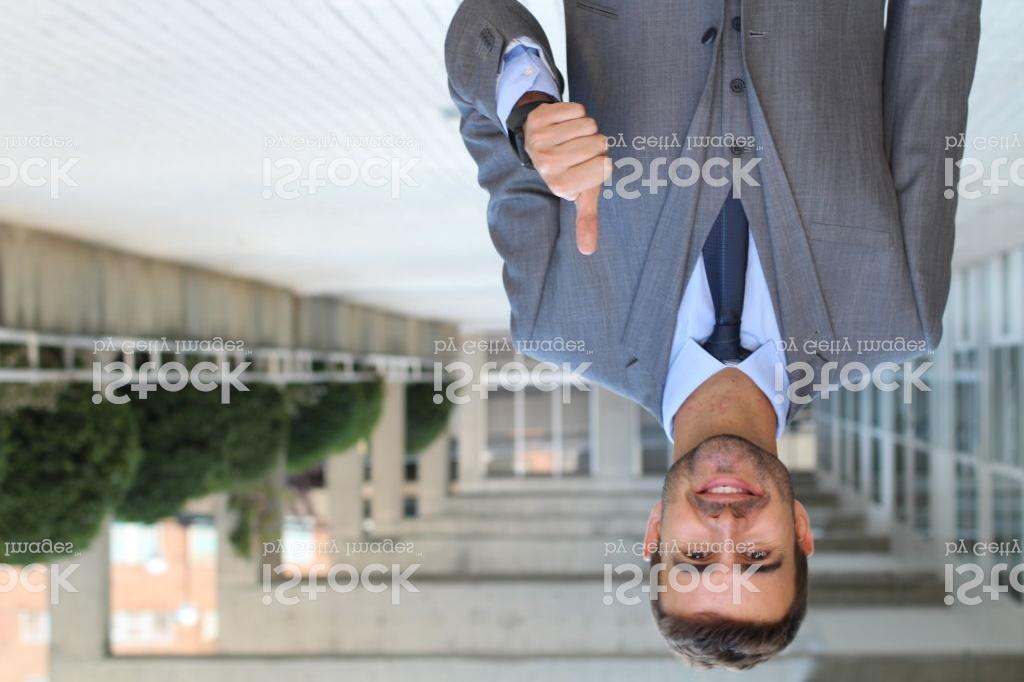thumbsdown: (522, 98, 615, 257)
